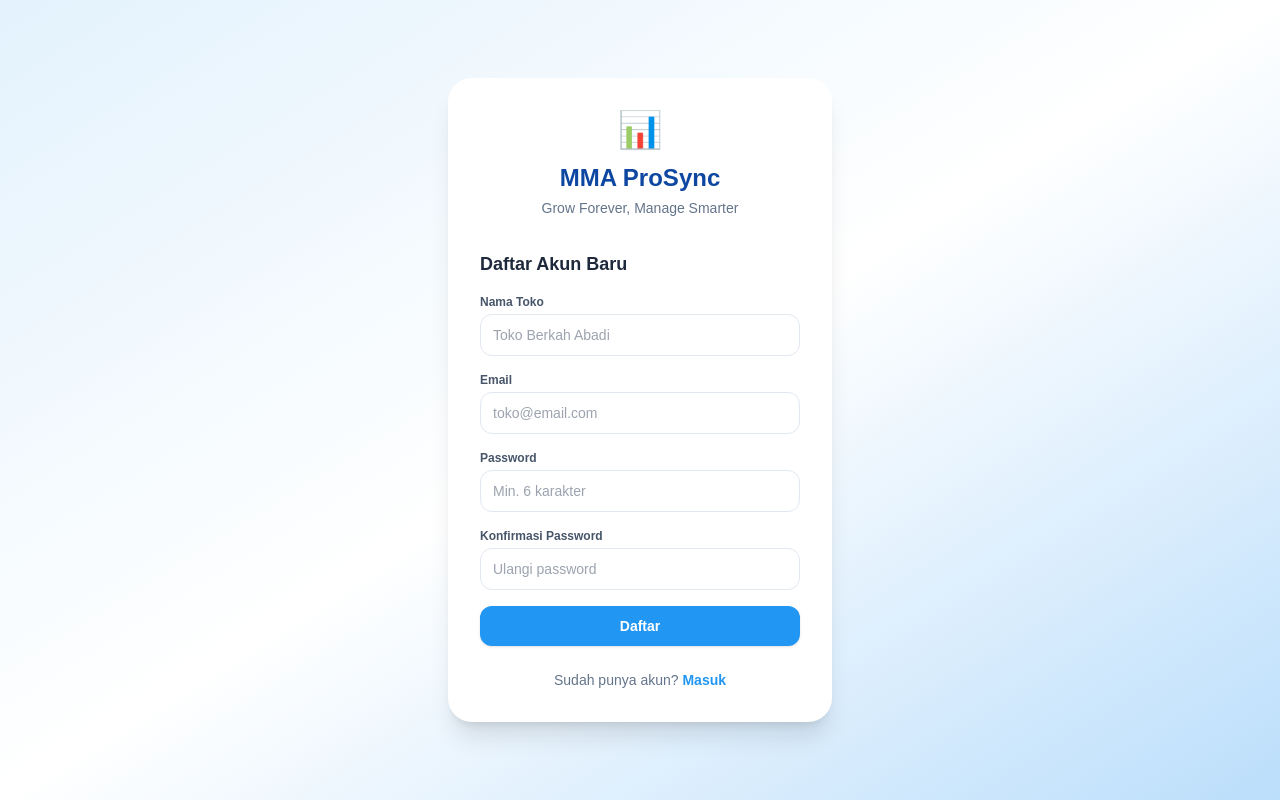
it: DaftarPage › shows password mismatch error
Type "Test" into the field with placeholder "Toko Berkah Abadi".
click(640, 335); type("Test")  # box [480, 314, 800, 356]
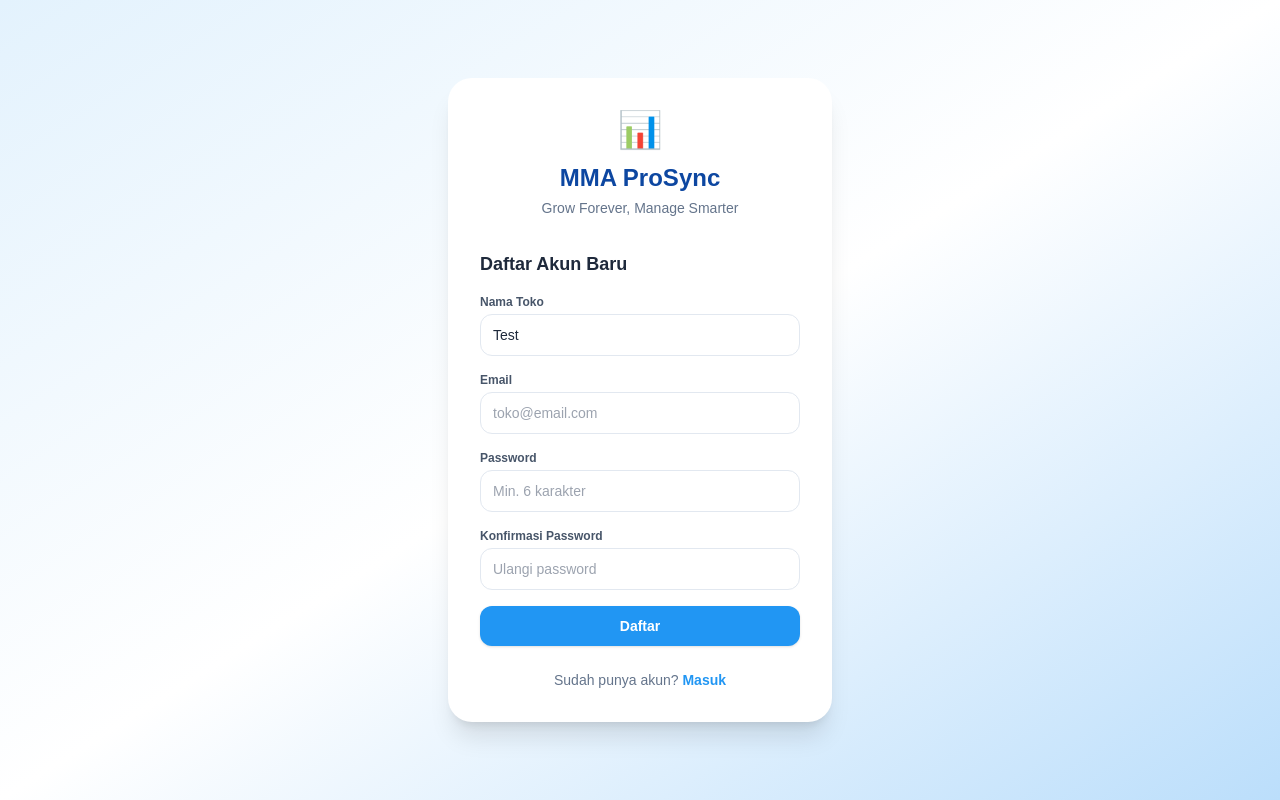
Type "a@b.com" into the field with placeholder "toko@email.com".
click(640, 413); type("a@b.com")  # box [480, 392, 800, 434]
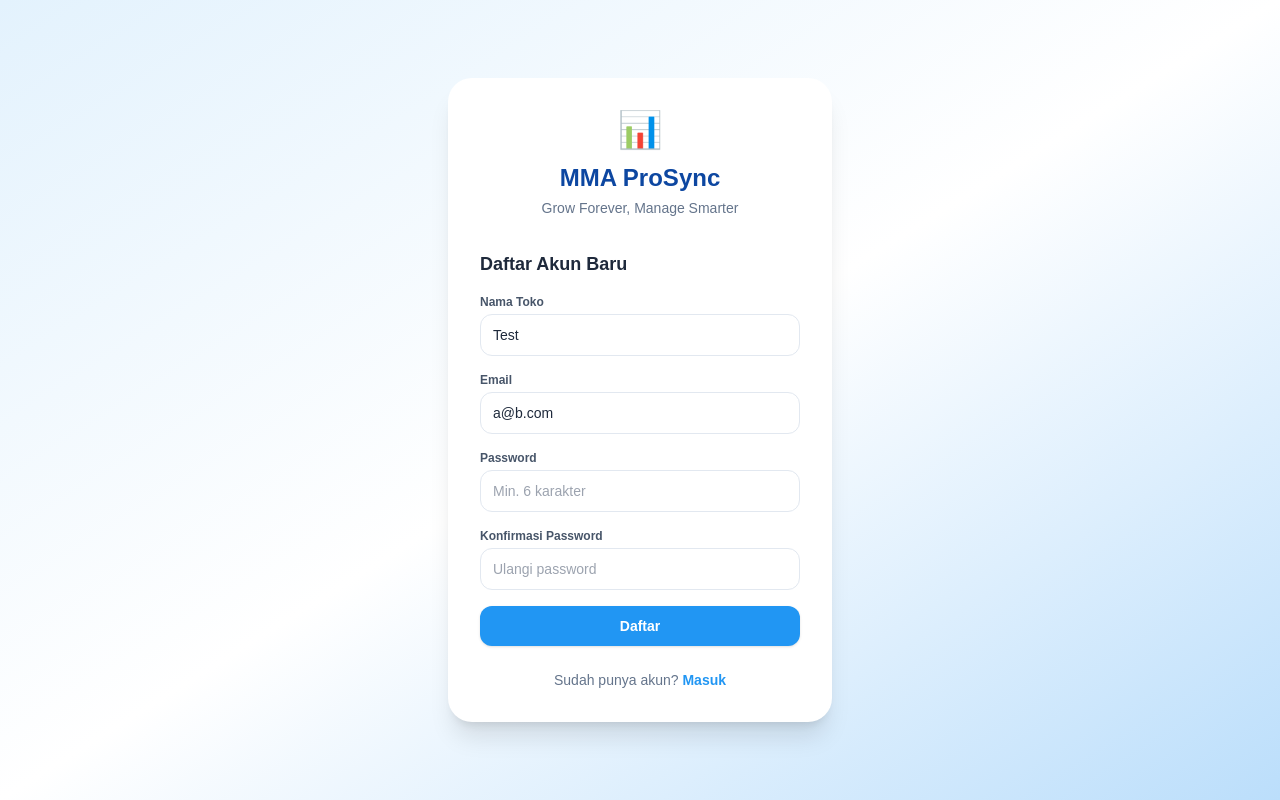
Type "123456" into the password field with placeholder "Min. 6 karakter".
click(640, 491); type("123456")  # box [480, 470, 800, 512]
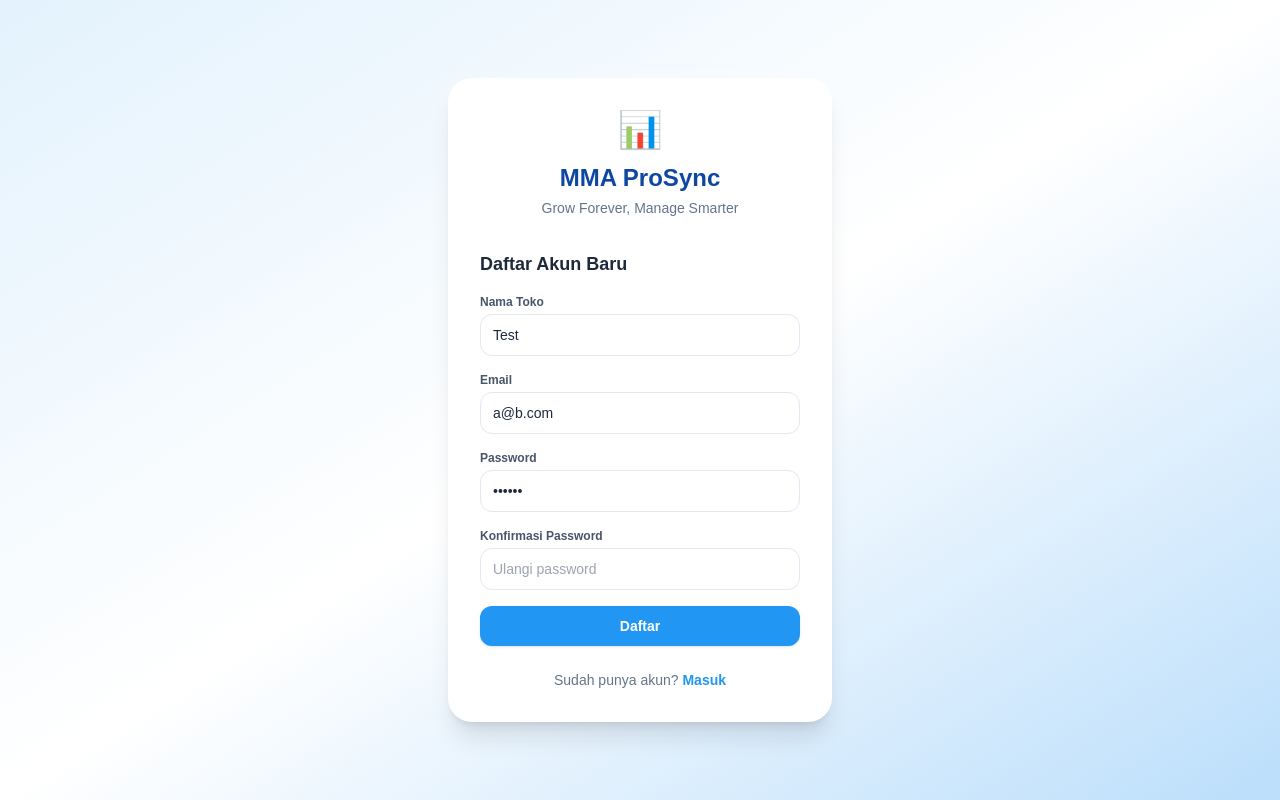
Type "654321" into the password field with placeholder "Ulangi password".
click(640, 569); type("654321")  # box [480, 548, 800, 590]
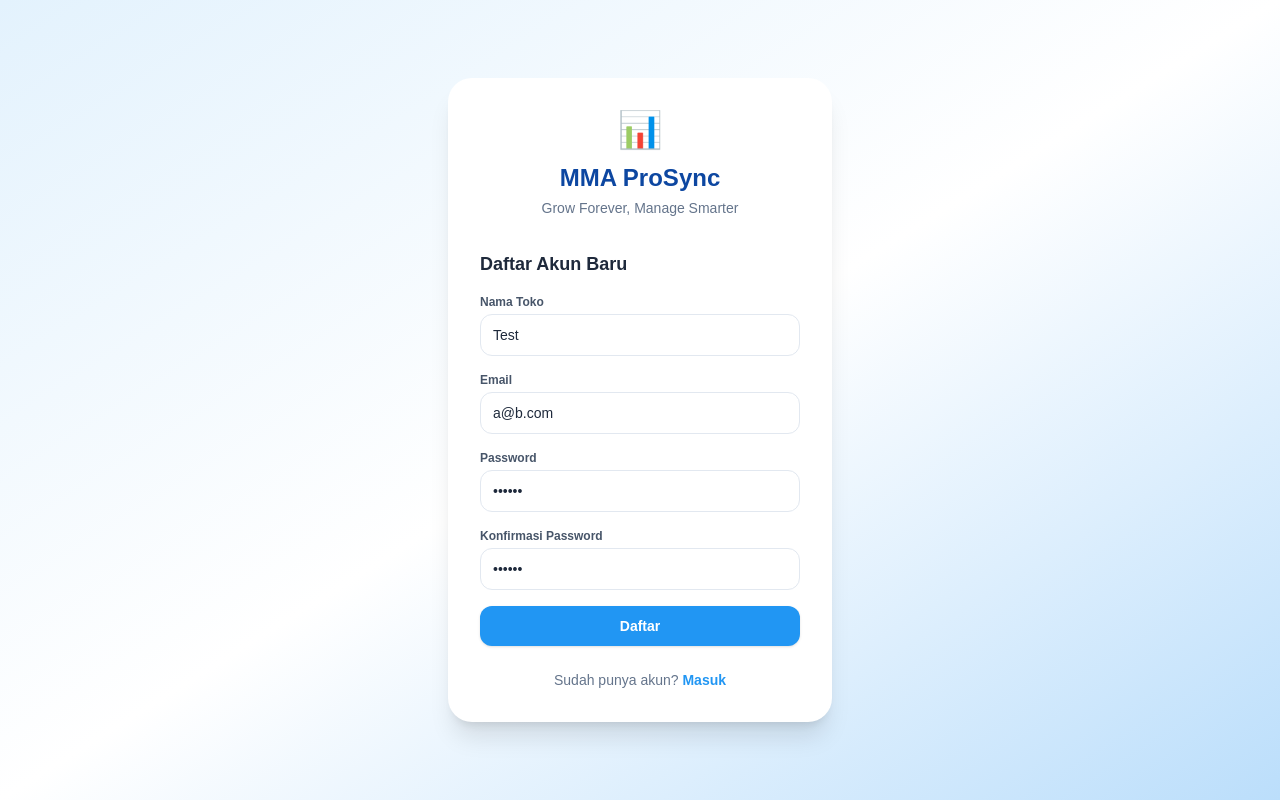
Click the button "Daftar".
click(640, 626)  # box [480, 606, 800, 646]
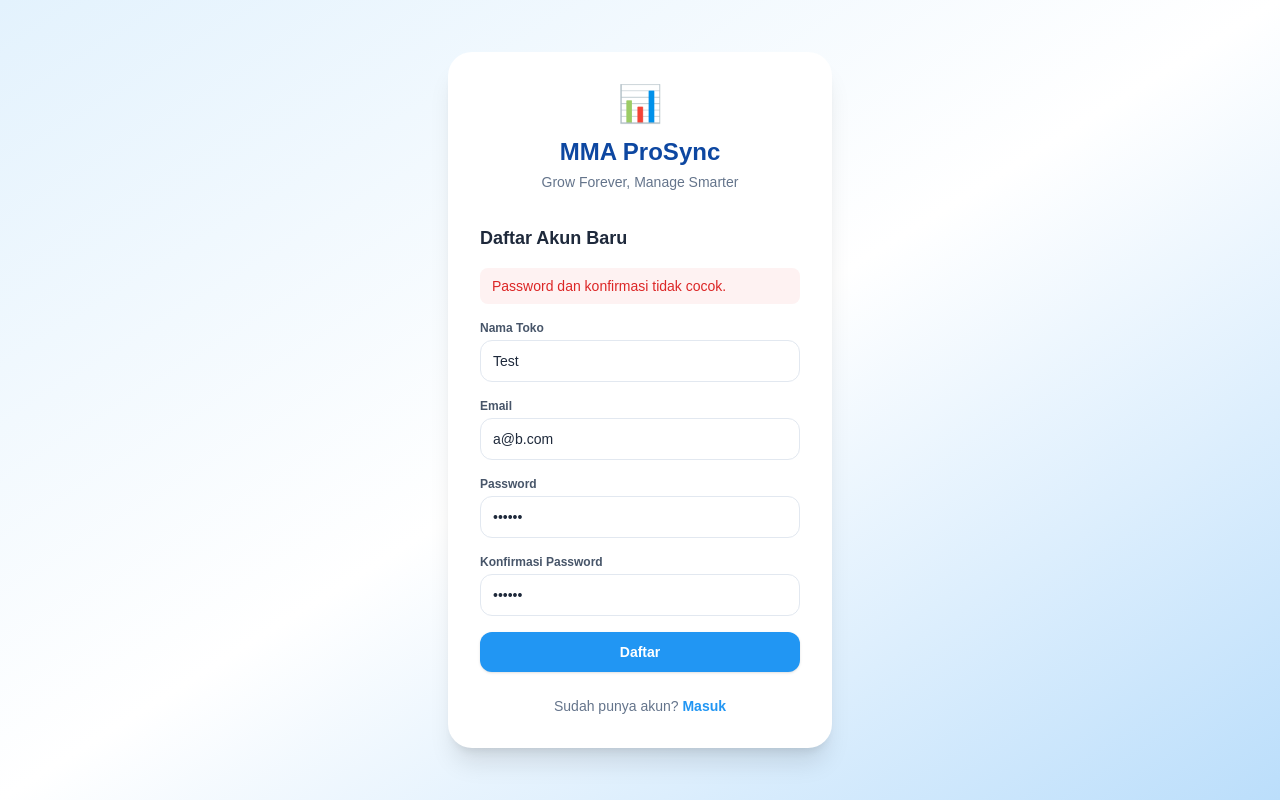
Expected: the message shows "tidak cocok", [492, 278, 726, 294]
